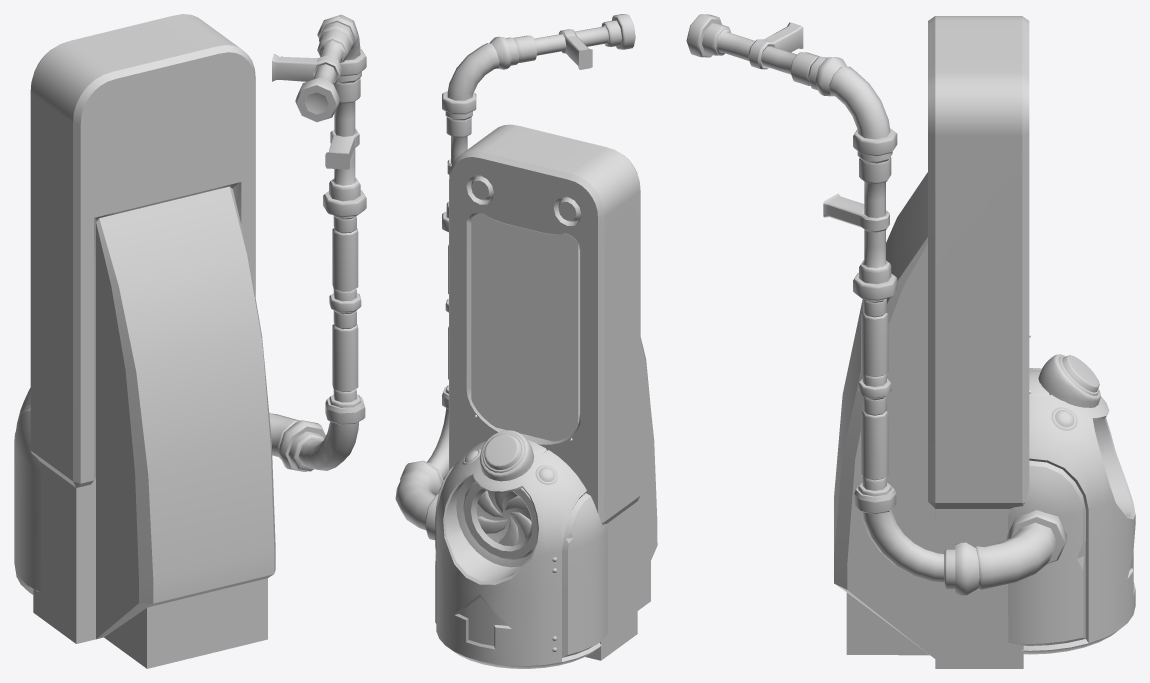
The model's file is Addition 0.fbx.
3 renders of one model, left to right at view 1: azimuth 30°, elevation 25°; view 2: azimuth 150°, elevation 25°; view 3: azimuth 270°, elevation 25°, orthographic. The views are drawn at different scales.
Parts seen in each view (by area): view 1: techDisplay1x1, Body, techPipeAttach (1), techPipeAttach, techPipeElbow02, techPipeMid (1), techPipeMid, techPipeElbow01 (×2); view 2: techDisplay1x1, Body, Screen, techPipeElbow01 (×2), techPipeAttach (1), button_base, techPipeAttach, button_button, techPipeElbow02; view 3: techDisplay1x1, Body, techPipeElbow01 (×2), techPipeAttach, techPipeAttach (1), techPipeElbow02, techPipeMid (1), techPipeMid, button_base, button_button.
Part boxes in pixels (x1,y1,x2,y2): techDisplay1x1: [30, 14, 275, 668]; Body: [14, 388, 40, 595]; techPipeAttach (1): [272, 22, 354, 122]; techPipeAttach: [323, 71, 366, 217]; techPipeElbow02: [288, 396, 365, 471]; techPipeMid (1): [329, 215, 361, 312]; techPipeMid: [329, 309, 361, 407]; techPipeElbow01 (×2): [269, 14, 366, 471]; techDisplay1x1: [449, 124, 657, 660]; Body: [435, 440, 607, 668]; Screen: [471, 213, 579, 441]; techPipeElbow01 (×2): [395, 36, 511, 540]; techPipeAttach (1): [506, 14, 635, 69]; button_base: [479, 430, 533, 481]; techPipeAttach: [442, 111, 472, 232]; button_button: [484, 434, 521, 469]; techPipeElbow02: [427, 387, 448, 482]; techDisplay1x1: [834, 16, 1029, 668]; Body: [1008, 368, 1135, 654]; techPipeElbow01 (×2): [815, 57, 1066, 595]; techPipeAttach: [823, 151, 897, 300]; techPipeAttach (1): [686, 14, 827, 90]; techPipeElbow02: [854, 483, 955, 588]; techPipeMid (1): [858, 298, 891, 398]; techPipeMid: [858, 396, 891, 496]; button_base: [1038, 354, 1100, 407]; button_button: [1062, 355, 1099, 392].
Bounding box in the file's own units: 2.56 × 5.62 × 3.63.
2 materials, 1 textured.
